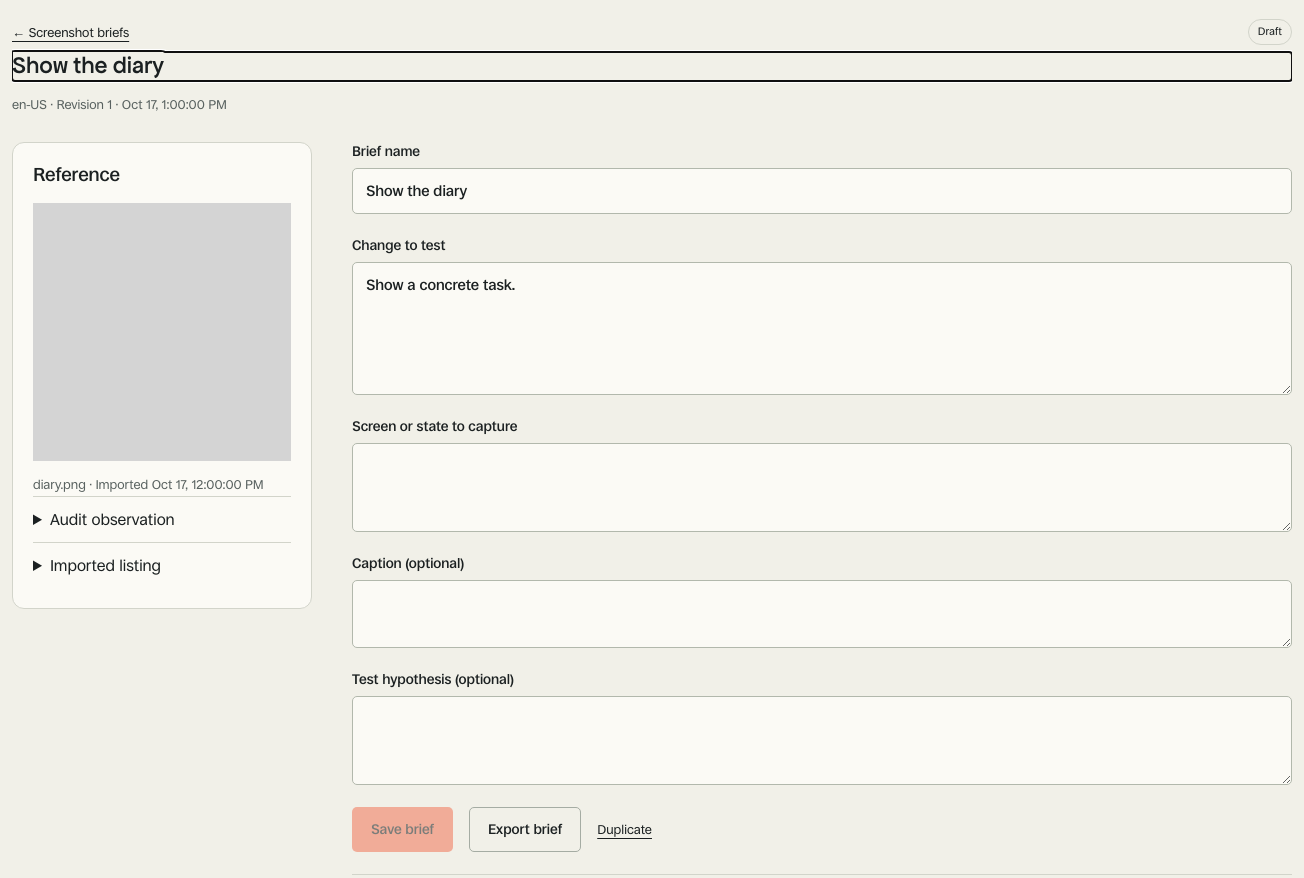
Test: keeps conflicted edits and blocks navigation until the saved version is resolved
The image size is (1304, 878).
Type "My unsaved caption" into the text box labelled "Caption (optional)". click: (822, 614)
box: [352, 580, 1292, 648]
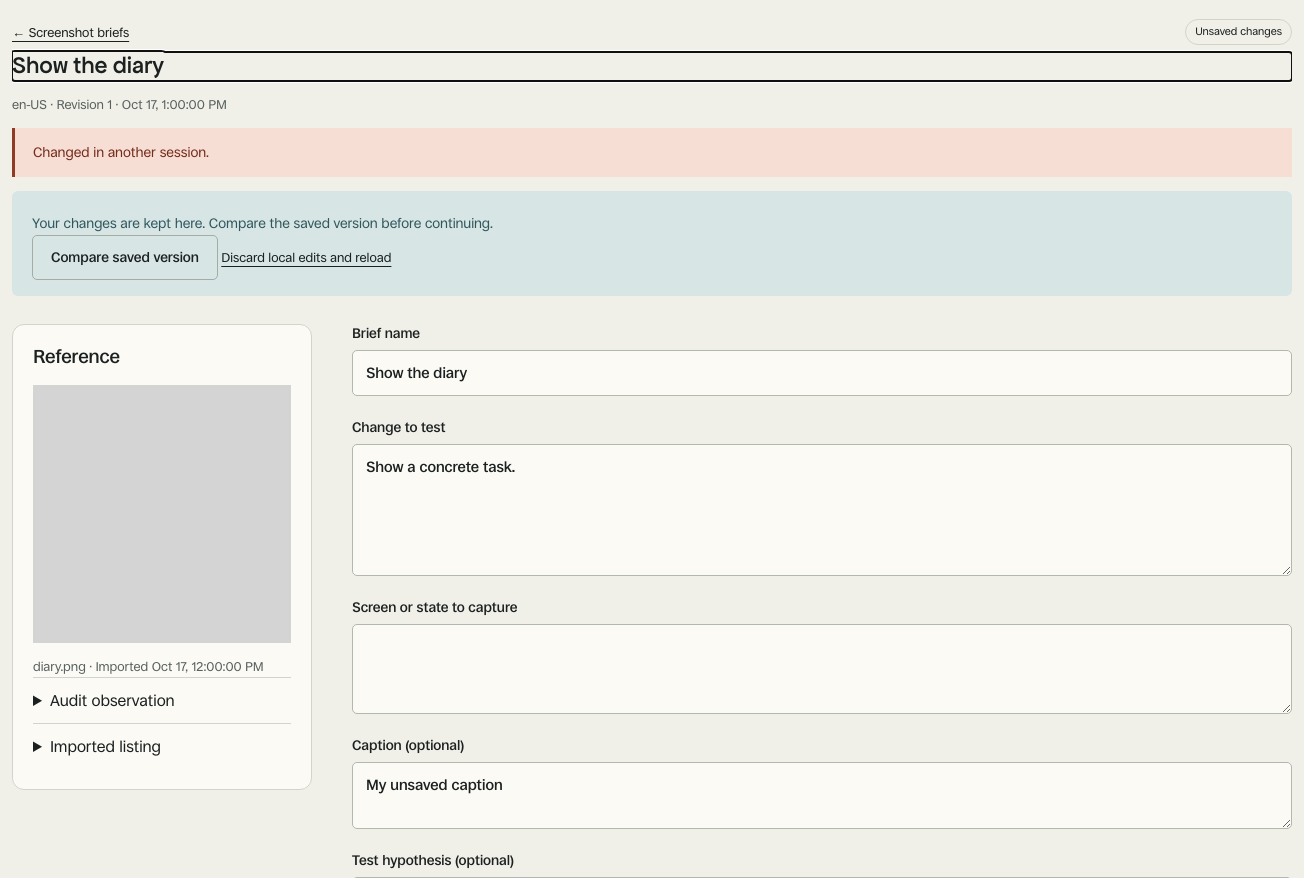
expect the button "Compare saved version" is shown: met, box [32, 235, 218, 280]
